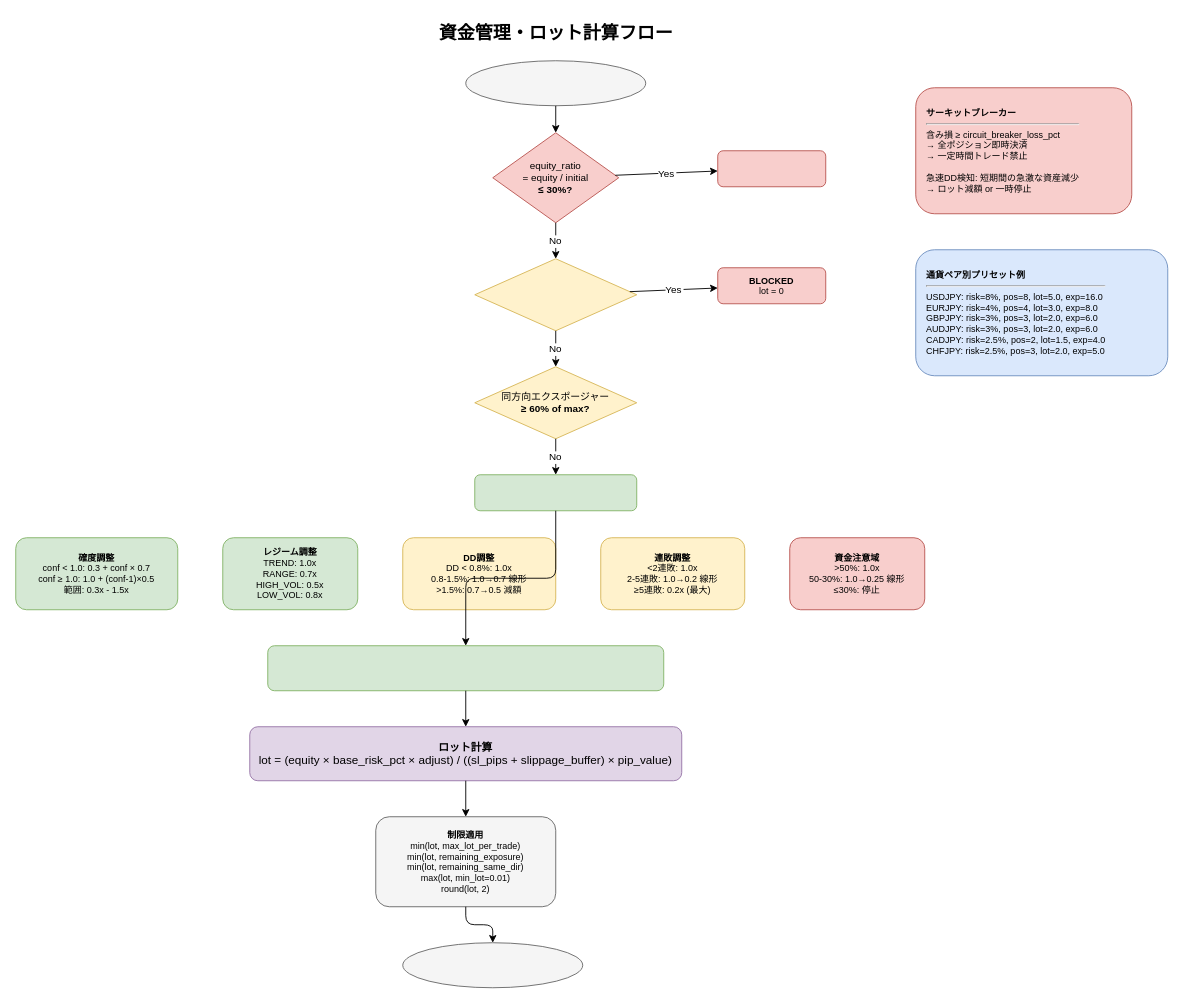
Image size: 1184x1004. Some labels were removed from this diagram. The shapes that lost their labels are listed below. From the top down, each one's box as (x1, y1, x2, y2) in pixels, then its label:
(465, 60, 646, 106): PositionSizer.calculate()
(717, 150, 826, 187): 取引停止 lot = 0
(474, 258, 637, 331): 合計エクスポージャー ≥ max_total (4.0)?
(474, 474, 637, 511): リスク調整係数計算
(267, 645, 664, 691): adjust = 確度 × レジーム × min(DD, 連敗) × 注意域 DD と連敗は「最も厳しい方のみ」適用（二重適用排除）
(402, 942, 583, 988): SizingResult (lot, risk_budget, adjust)
